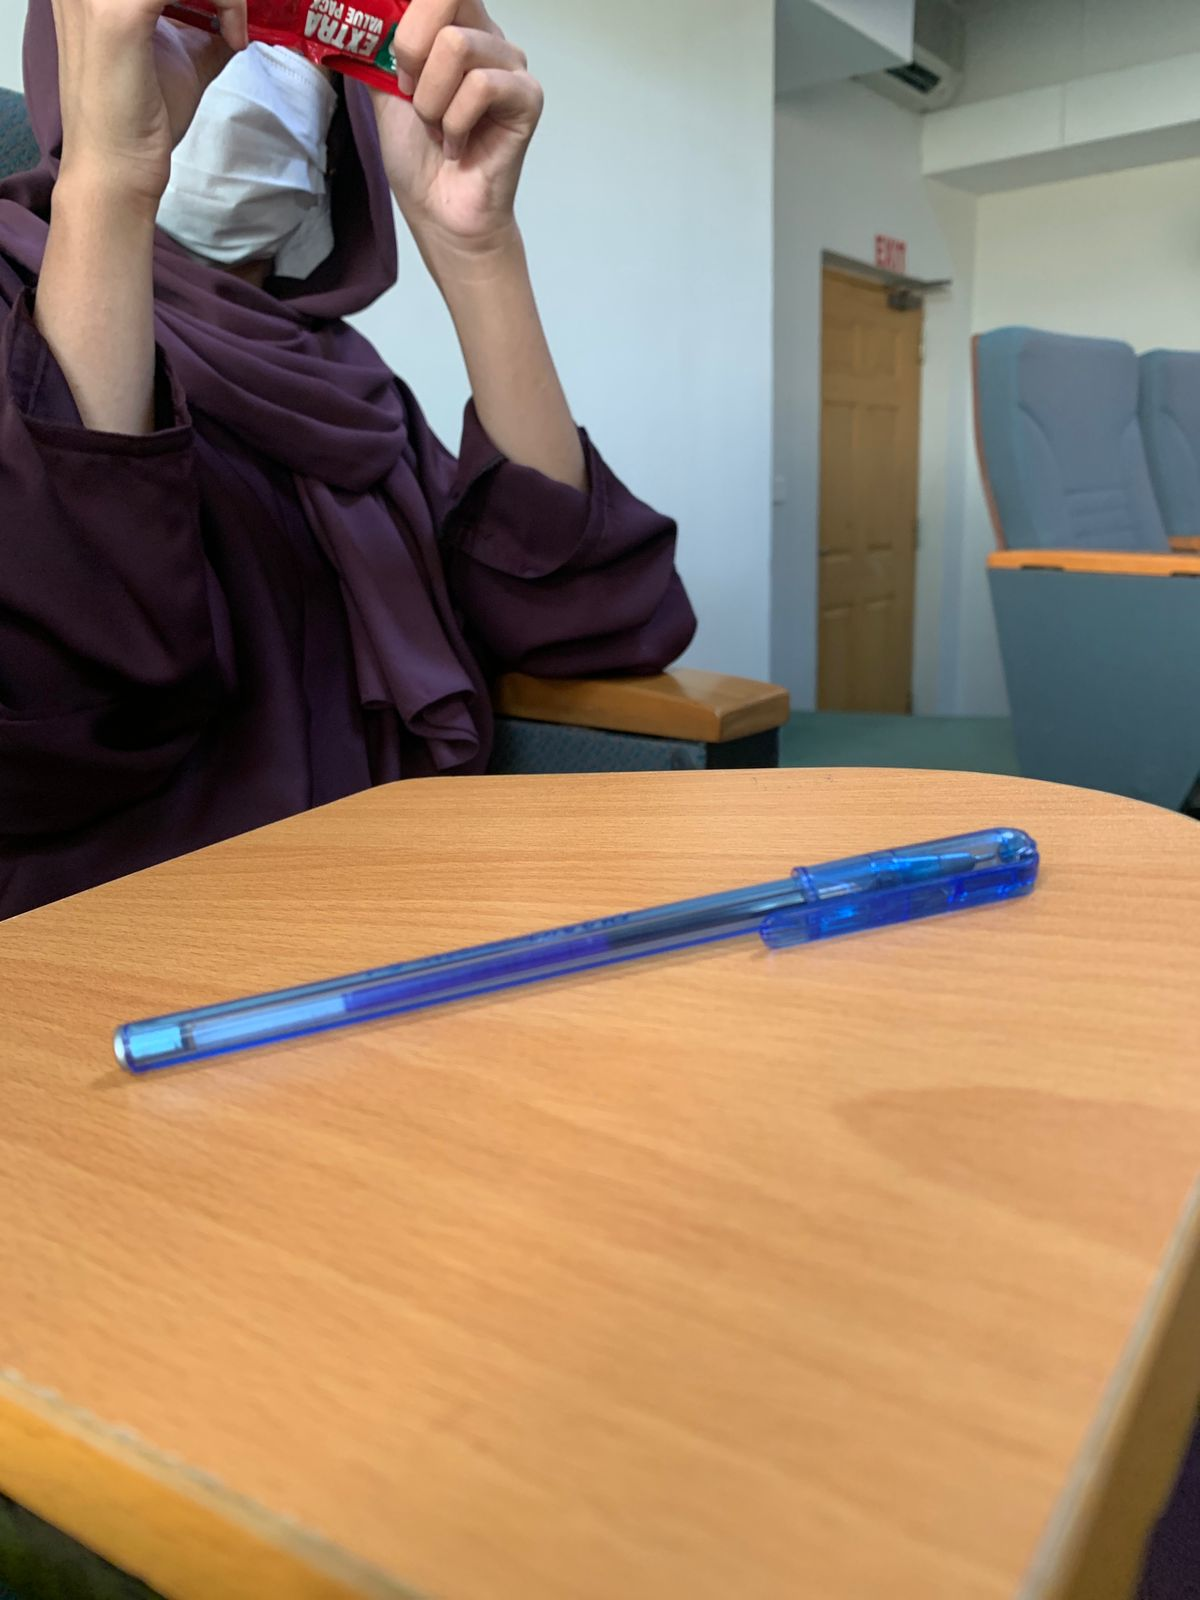pen: (71, 762, 1100, 1125)
